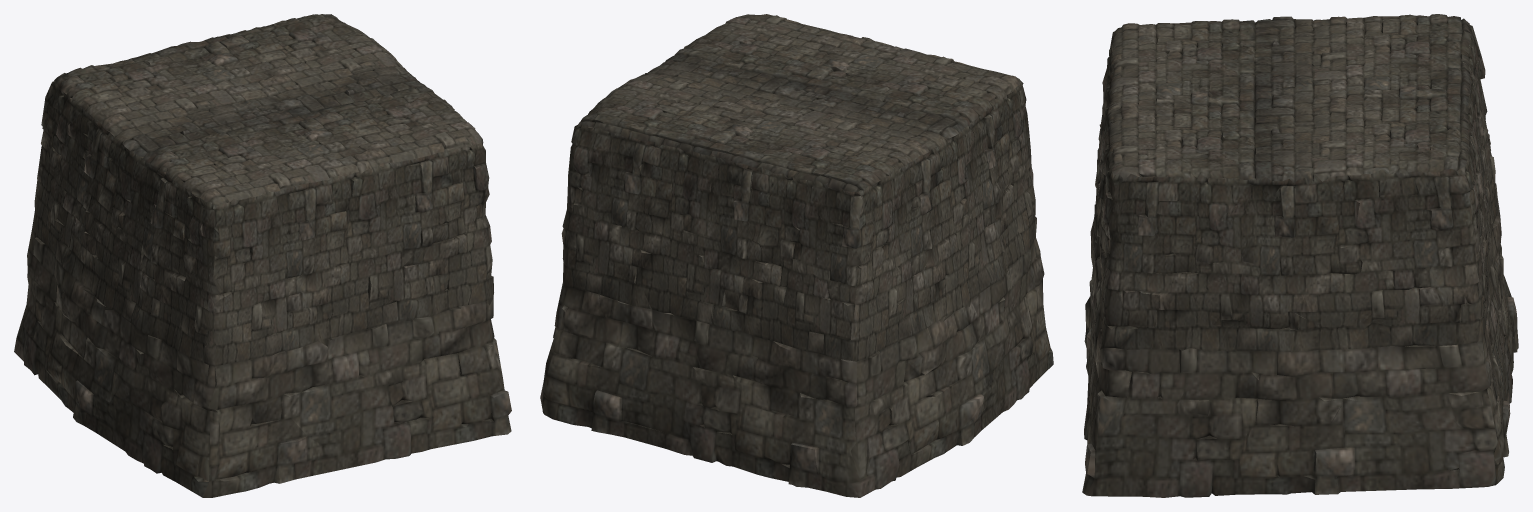
Rendered from Block_01.fbx.
3 renders of one model, left to right at view 1: azimuth 30°, elevation 25°; view 2: azimuth 150°, elevation 25°; view 3: azimuth 270°, elevation 25°, orthographic. The views are drawn at different scales.
Parts seen in each view (by area): view 1: Block_01; view 2: Block_01; view 3: Block_01.
Boxes of the visible parts, box(x1,y1,x2,y2) form: Block_01: box(14, 14, 511, 497); Block_01: box(540, 14, 1053, 497); Block_01: box(1082, 14, 1518, 497).
Size of what is drawn, in the model's own units: 1557 by 1284 by 1528.
